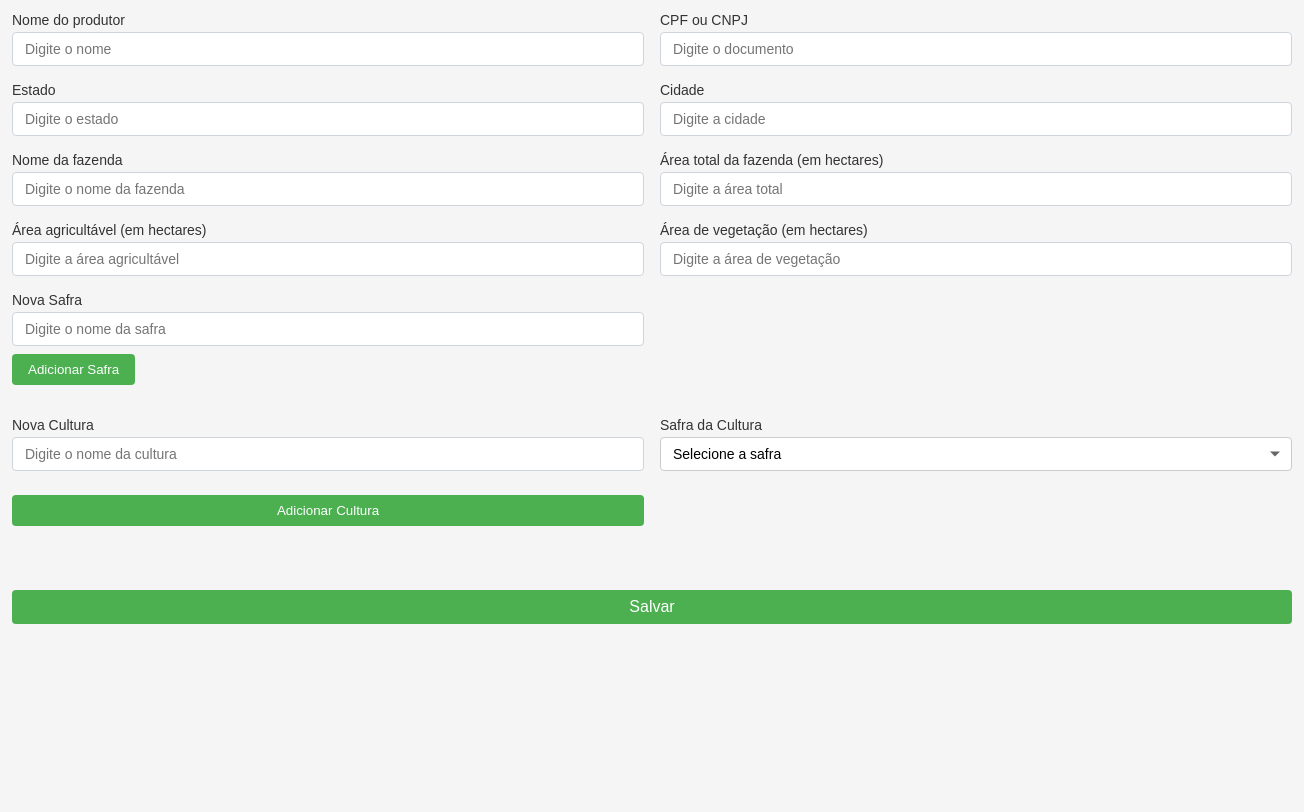
Test: ProducerForm › should show validation errors for required fields
Click the button "Salvar".
click(652, 607)  # box [12,590,1292,624]
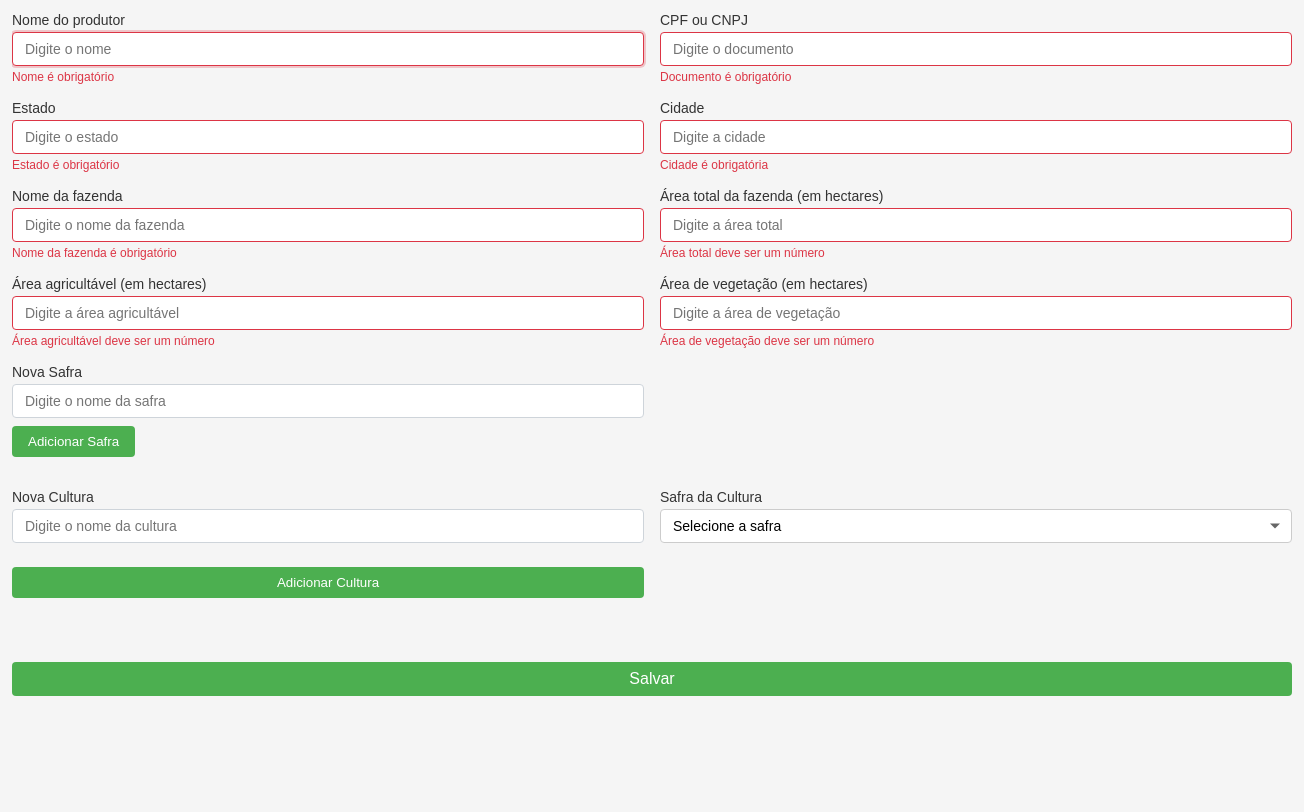
Now the text "Nome é obrigatório" is shown, box [12,70,114,84]
Now the text "Documento é obrigatório" is shown, box [660,70,791,84]
Now the text "Estado é obrigatório" is shown, box [12,158,119,172]
